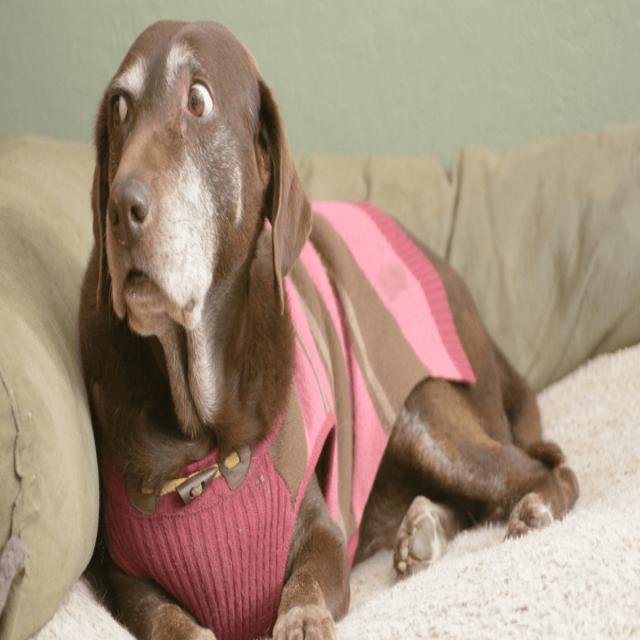eye: (185, 75, 217, 125), (110, 86, 132, 130)
